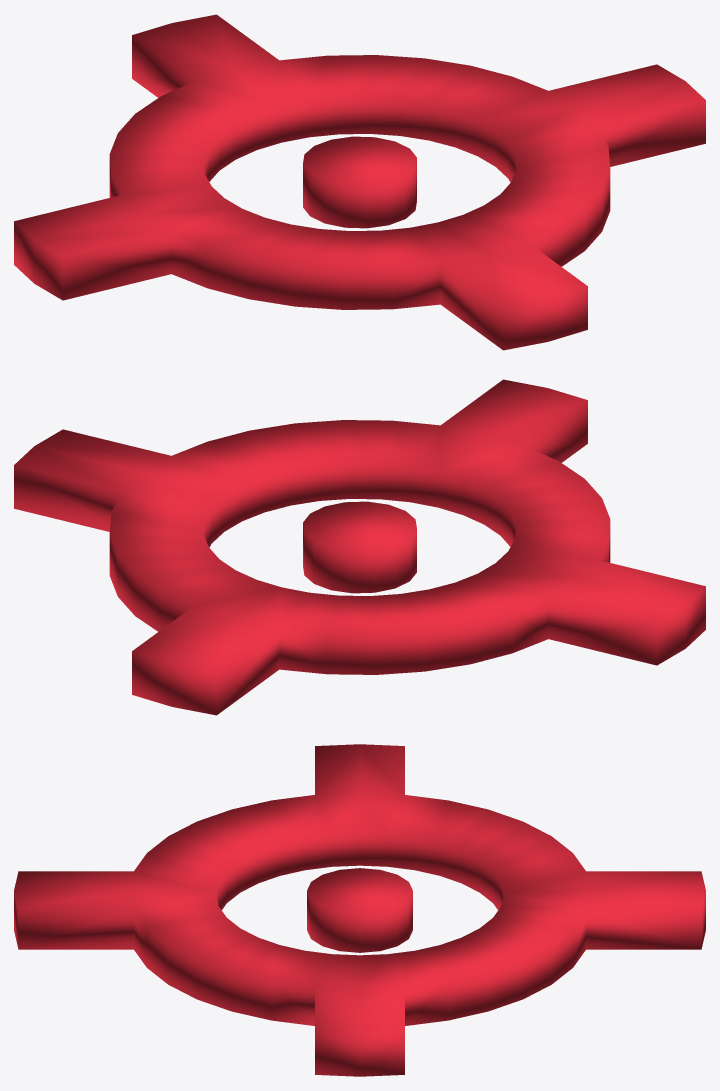
File: Target.fbx
The picture shows the model from 3 angles, top to bottom: view 1: azimuth 30°, elevation 25°; view 2: azimuth 150°, elevation 25°; view 3: azimuth 270°, elevation 25°; orthographic projection. The views are drawn at different scales.
Parts seen in each view (by area): view 1: Target; view 2: Target; view 3: Target.
Boxes of the visible parts, bbox=[...] form: Target: bbox=[14, 14, 705, 350]; Target: bbox=[14, 379, 705, 715]; Target: bbox=[14, 744, 705, 1076].
Bounding box in the file's own units: 300 × 19.16 × 300.
